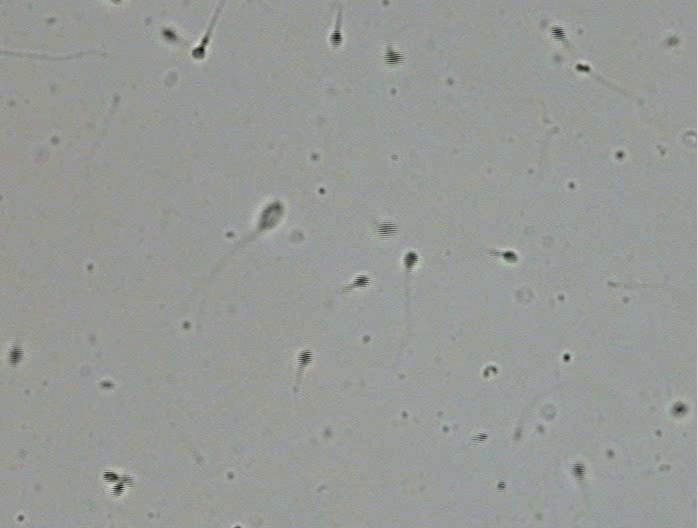S: (258, 200, 285, 230), (377, 222, 398, 238), (384, 49, 404, 65), (404, 251, 419, 269), (9, 346, 23, 365), (550, 25, 566, 41), (297, 349, 312, 366), (329, 30, 343, 48), (353, 274, 370, 288), (571, 461, 585, 477), (192, 45, 206, 59), (103, 471, 119, 483), (111, 483, 125, 496), (673, 403, 687, 416), (503, 251, 518, 263), (162, 28, 176, 40), (575, 63, 591, 73)
